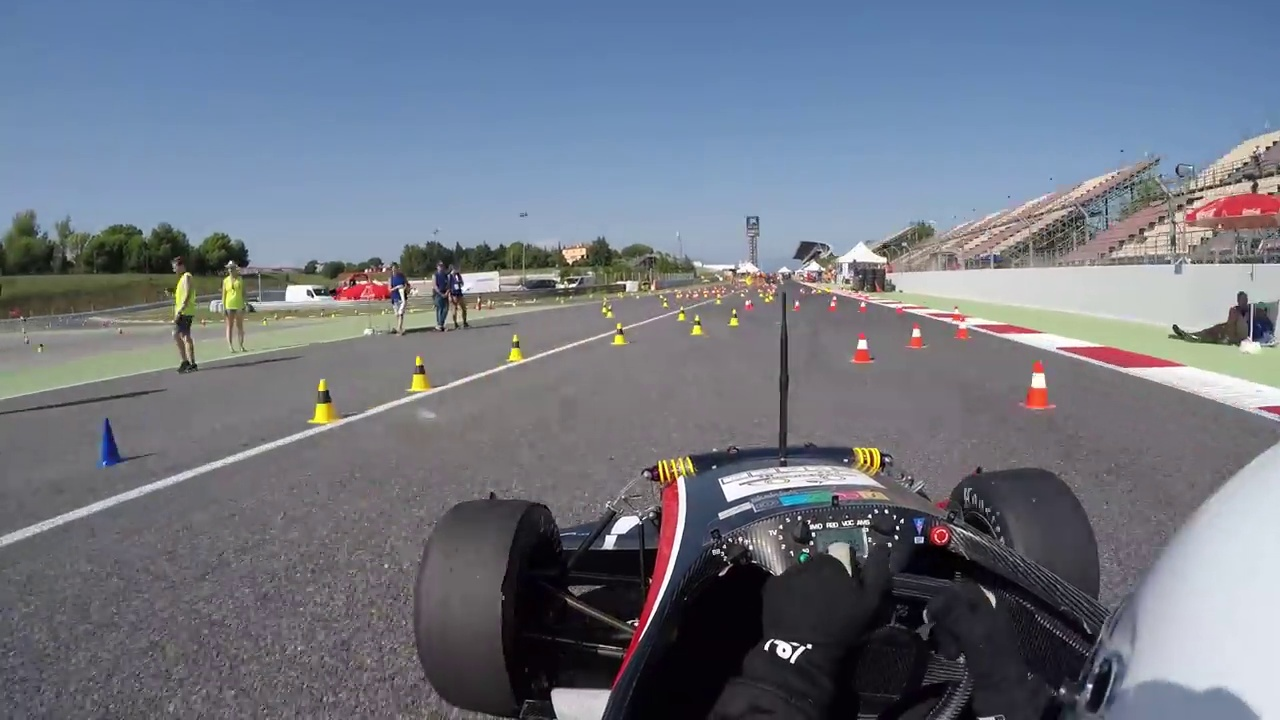Cone: (1020, 357, 1057, 414), (307, 377, 343, 425), (94, 416, 123, 466), (408, 352, 435, 391), (847, 330, 877, 364)
